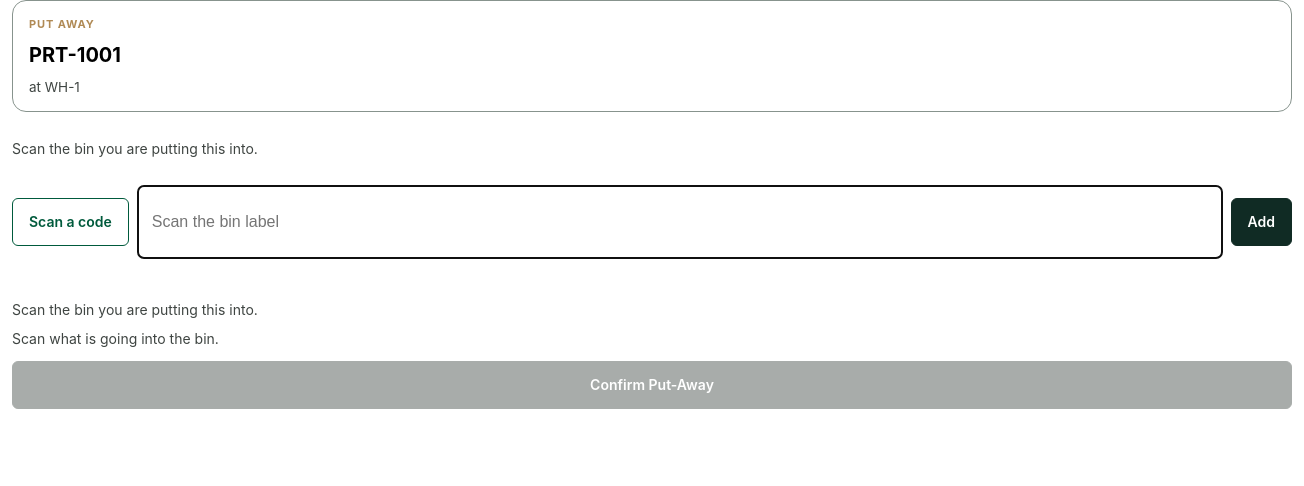
Scenario: Put-away (the bin is validated before anything goes in it) › asks the SERVER whether the bin is real, at this warehouse
Type "a-14" into the field named "scan bin" at (680,222), box [137, 185, 1223, 259]
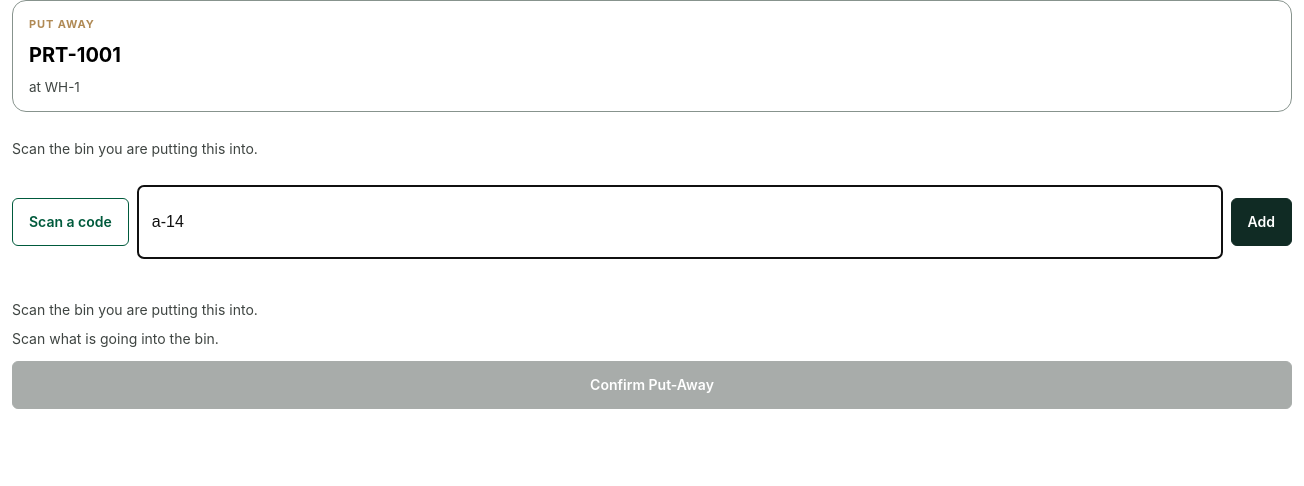
Click the button "Add" at (1261,222), box [1230, 198, 1292, 246]
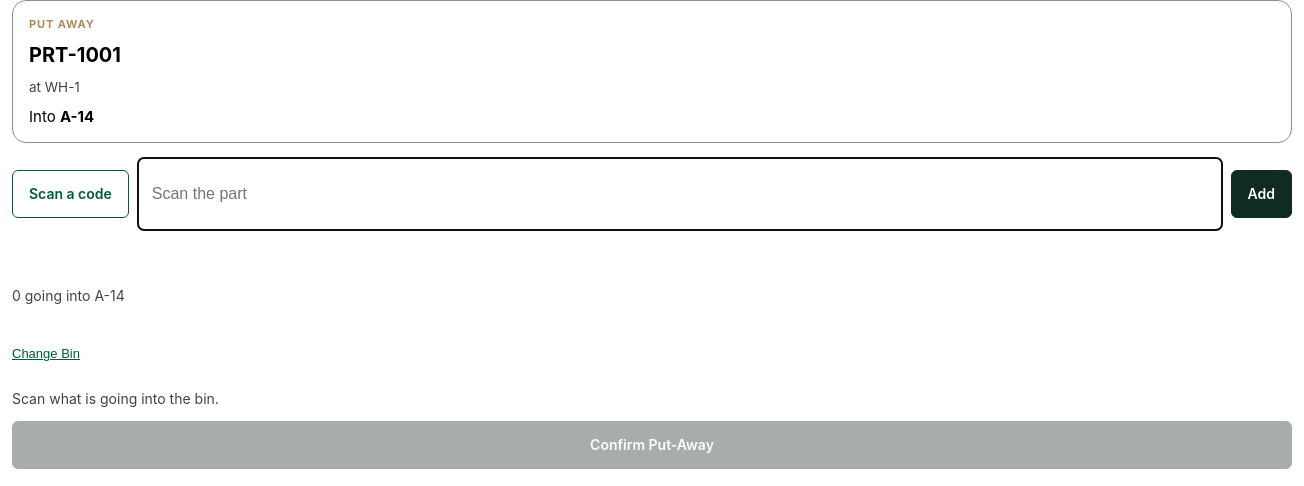
Expected: the field named "scan item" is shown, [137, 157, 1223, 231]
